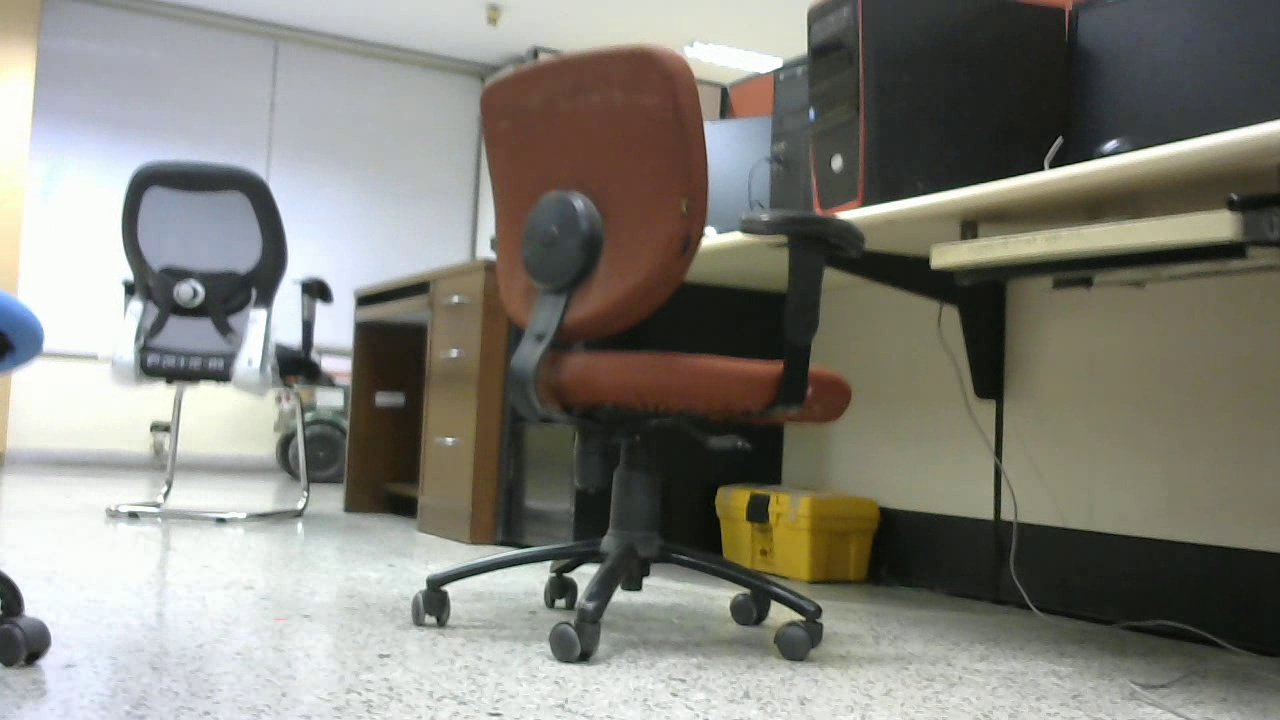chair: (407, 44, 836, 678), (109, 156, 336, 543)
